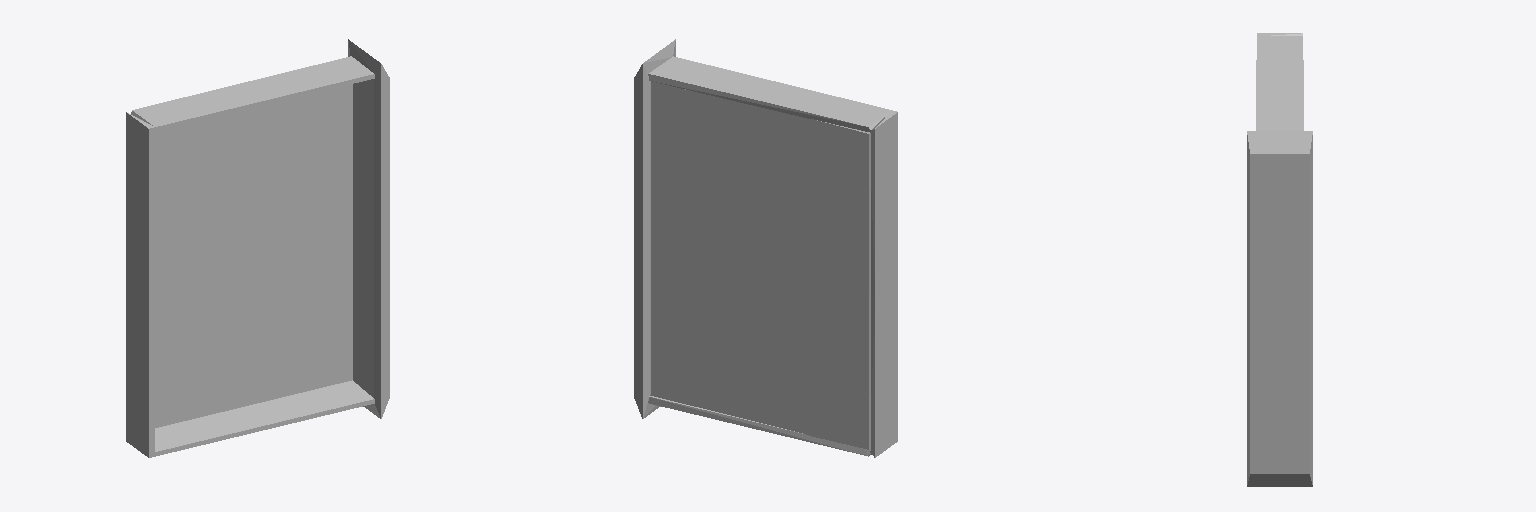
The model's file is drawer_convexdecomposition.obj.
3 renders of one model, left to right at view 1: azimuth 30°, elevation 25°; view 2: azimuth 150°, elevation 25°; view 3: azimuth 270°, elevation 25°, orthographic.
Visible parts, largest first — view 1: convex_4, convex_5, convex_0, convex_6, convex_3, convex_2, convex_1; view 2: convex_5, convex_4, convex_6, convex_0, convex_2, convex_1, convex_3; view 3: convex_0, convex_6.
Boxes of the visible parts, x1,y1,x2,y2 form: convex_4: [153, 222, 352, 427]; convex_5: [153, 84, 352, 274]; convex_0: [348, 39, 389, 418]; convex_6: [131, 56, 374, 131]; convex_3: [155, 380, 374, 456]; convex_2: [126, 112, 154, 295]; convex_1: [126, 279, 154, 457]; convex_5: [651, 81, 870, 293]; convex_4: [650, 238, 870, 450]; convex_6: [648, 56, 891, 131]; convex_0: [634, 39, 675, 418]; convex_2: [870, 110, 897, 295]; convex_1: [870, 279, 897, 457]; convex_3: [648, 396, 871, 456]; convex_0: [1247, 131, 1312, 486]; convex_6: [1256, 36, 1303, 130].
Bounding box in the file's own units: 0.5331 × 0.7636 × 0.1288.